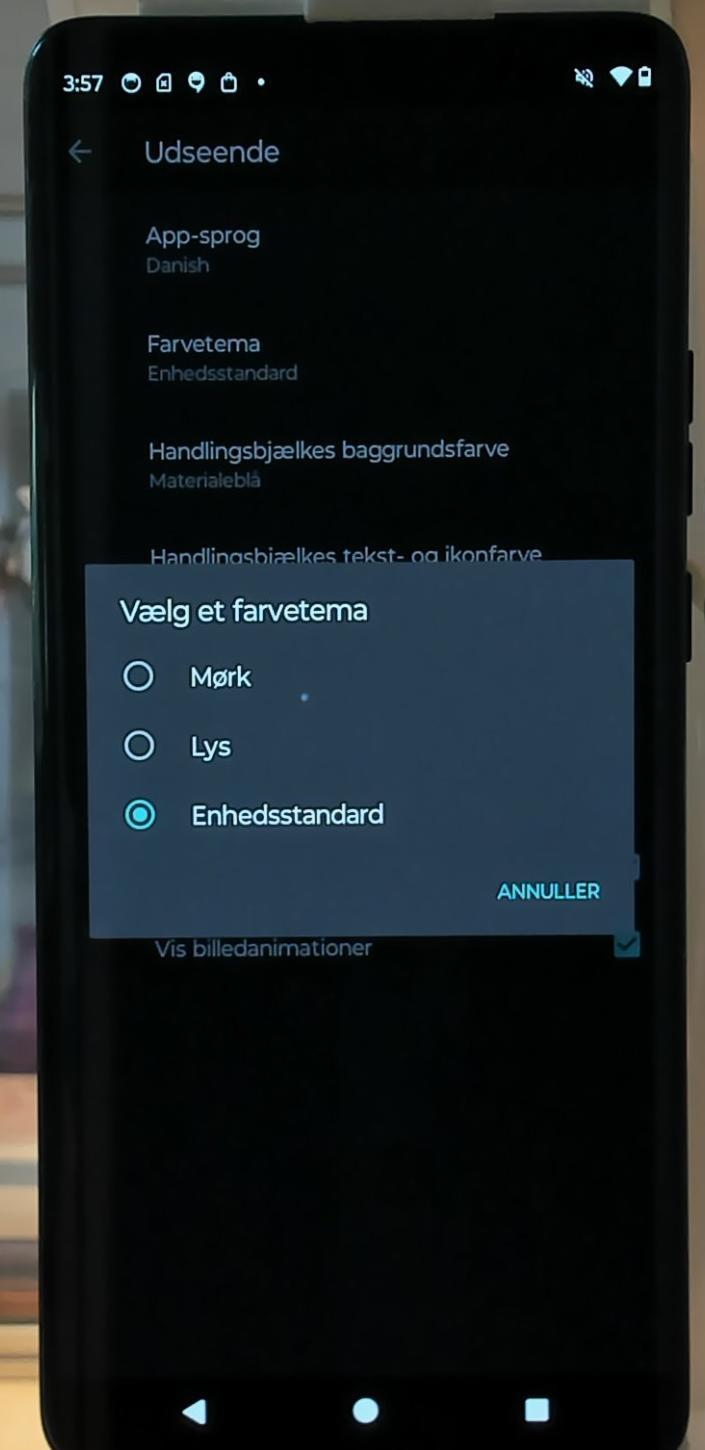RadioButton: (118, 789, 397, 838), (119, 722, 235, 773), (118, 655, 254, 695), (177, 1390, 213, 1429), (515, 1394, 555, 1426), (349, 1392, 382, 1425)
